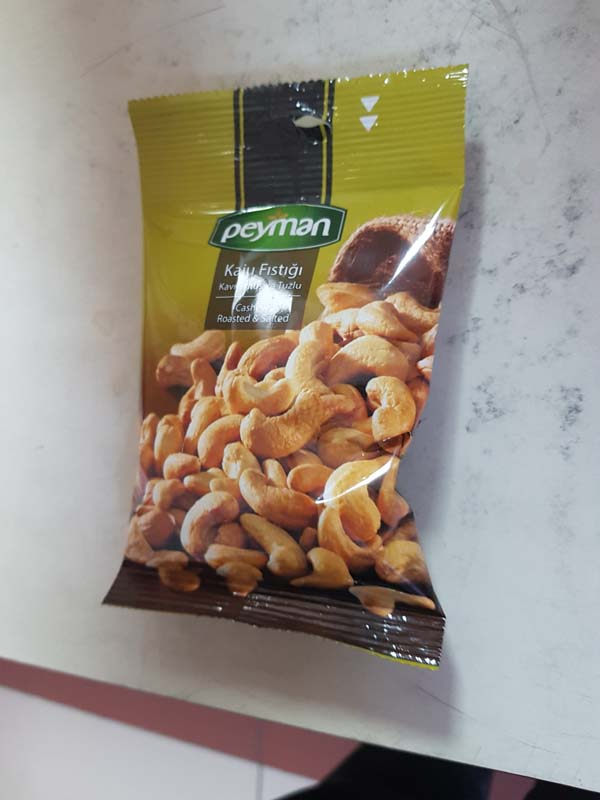kajupeyman: (94, 61, 460, 668)
